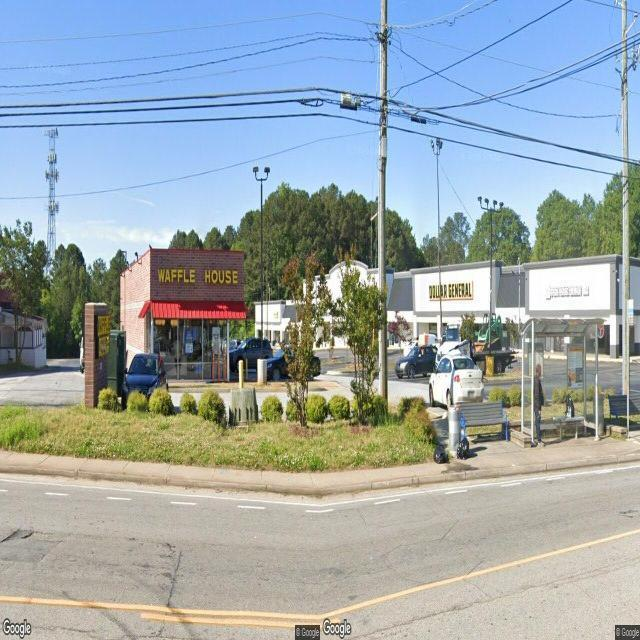seating: (460, 400, 510, 444), (607, 392, 640, 424), (557, 414, 585, 442)
shelter: (520, 310, 608, 450)
trash_can: (448, 406, 462, 454), (592, 392, 604, 436)
